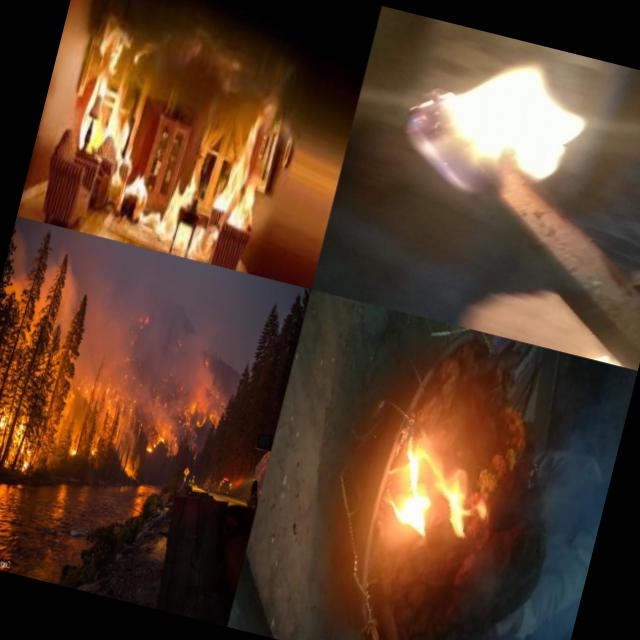fire: (375, 20, 603, 237), (0, 294, 109, 486), (372, 428, 508, 556), (130, 378, 226, 476), (74, 364, 150, 481), (72, 22, 134, 156), (210, 104, 267, 214), (152, 166, 202, 247), (98, 108, 137, 192), (224, 161, 266, 237), (122, 162, 154, 206)
smoke: (477, 376, 631, 640), (122, 18, 304, 118), (80, 236, 232, 338), (99, 313, 238, 395), (34, 225, 98, 312), (4, 220, 40, 295)
